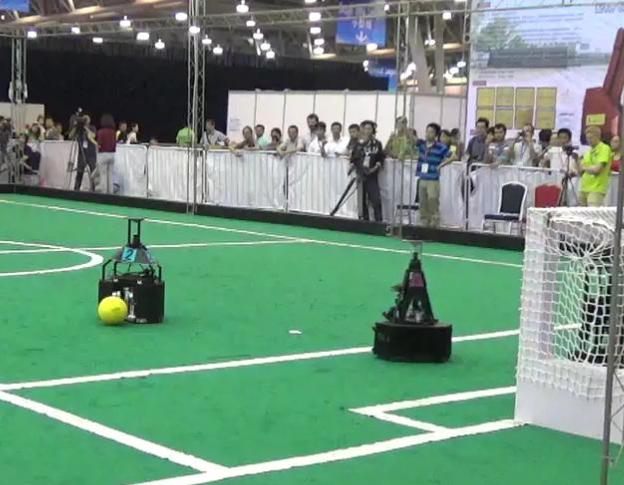robot: (366, 233, 460, 372), (95, 214, 167, 328)
